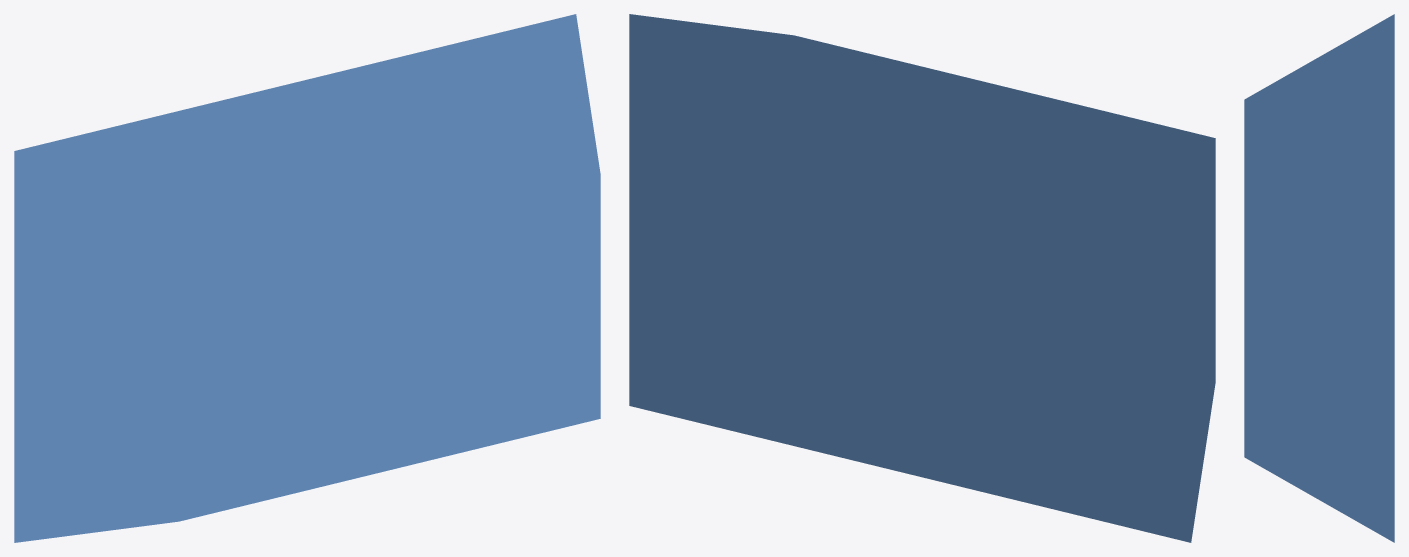
Rendered from static-prop.raw.glb.
3 views of the same model, side by side, from view 1: azimuth 30°, elevation 25°; view 2: azimuth 150°, elevation 25°; view 3: azimuth 270°, elevation 25° (orthographic). The views are drawn at different scales.
Parts seen in each view (by area): view 1: static_prop; view 2: static_prop; view 3: static_prop.
Part boxes in pixels (bbox=[...]): static_prop: bbox=[14, 14, 600, 542]; static_prop: bbox=[629, 14, 1215, 542]; static_prop: bbox=[1244, 14, 1394, 542].
Bounding box in the file's own units: 1.2 × 0.8 × 0.35.
